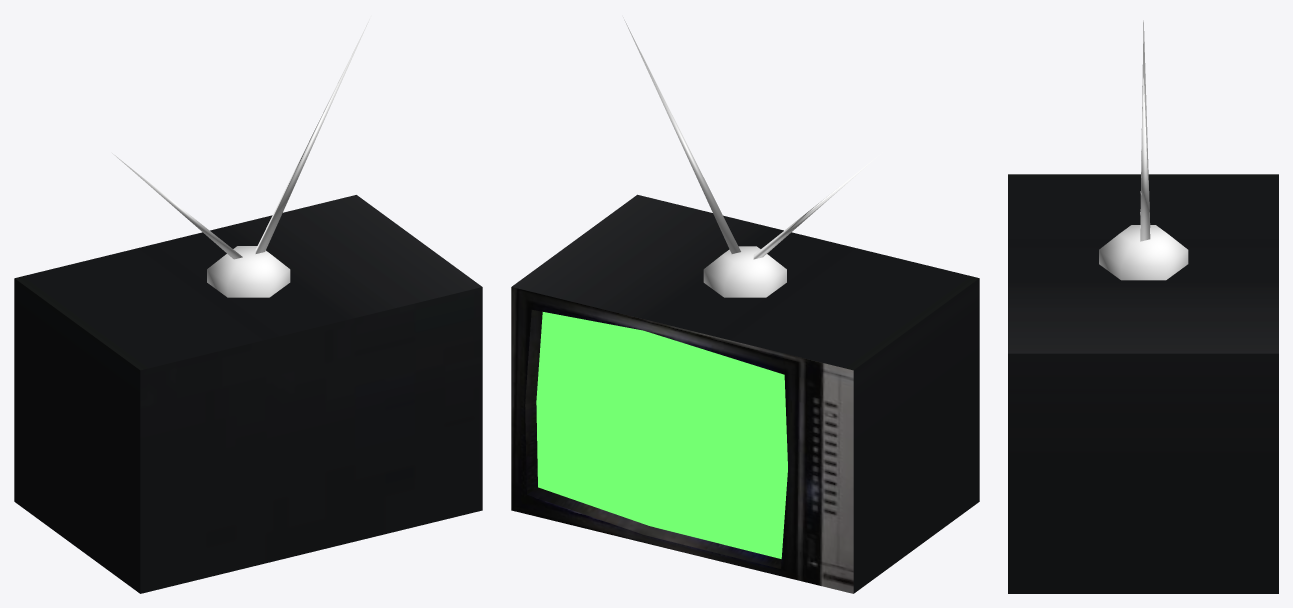
3 views of the same model, side by side, from view 1: azimuth 30°, elevation 25°; view 2: azimuth 150°, elevation 25°; view 3: azimuth 270°, elevation 25° (orthographic). The views are drawn at different scales.
Parts seen in each view (by area): view 1: TV_02; view 2: TV_02; view 3: TV_02.
Part boxes in pixels (left/top/right/bottom): TV_02: left=14, top=19, right=482, bottom=593; TV_02: left=511, top=17, right=979, bottom=593; TV_02: left=1008, top=20, right=1278, bottom=593.
Bounding box in the file's own units: 0.887 × 1.14 × 0.5658.
3 materials, 1 textured.
